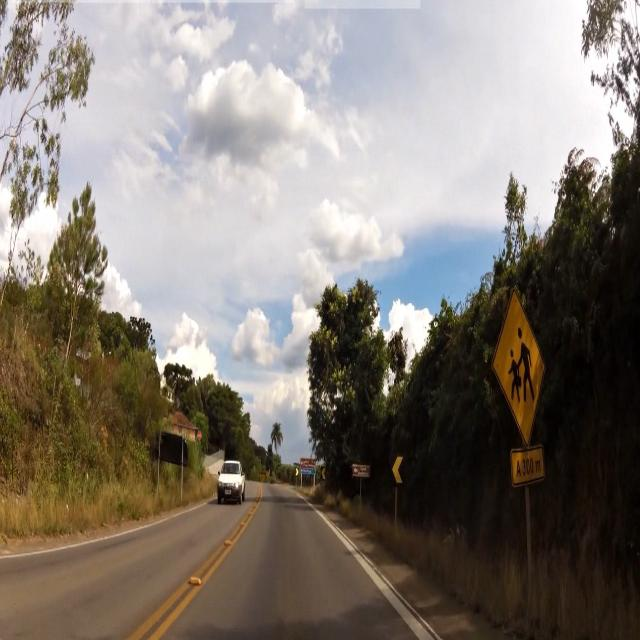A-33a: (484, 290, 570, 441)
Del: (390, 453, 409, 488)
